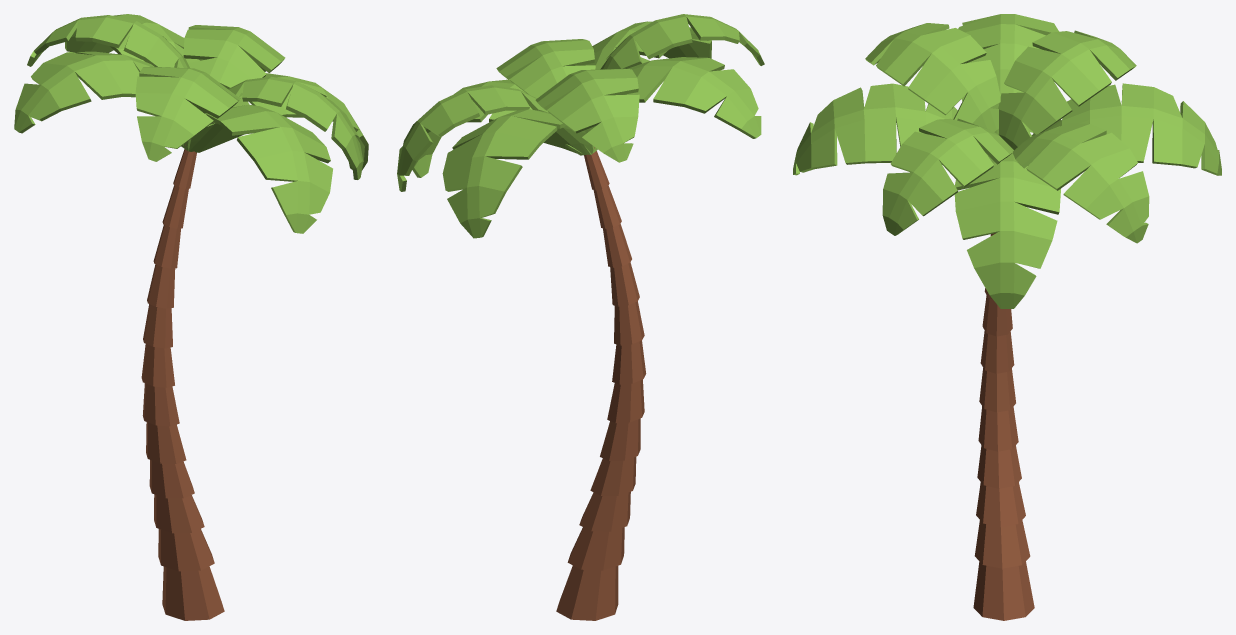
File: Palm_Tree.fbx
3 renders of one model, left to right at view 1: azimuth 30°, elevation 25°; view 2: azimuth 150°, elevation 25°; view 3: azimuth 270°, elevation 25°, orthographic. The views are drawn at different scales.
Visible parts, largest first — view 1: Leaves.001, Palm; view 2: Leaves.001, Palm; view 3: Leaves.001, Palm.
Boxes of the visible parts, x1,y1,x2,y2 form: Leaves.001: (14,14,368,233); Palm: (141,144,224,620); Leaves.001: (397,14,764,238); Palm: (556,147,646,620); Leaves.001: (793,14,1221,308); Palm: (973,233,1034,620).
Bounding box in the file's own units: 3.65 × 5.86 × 4.17.
